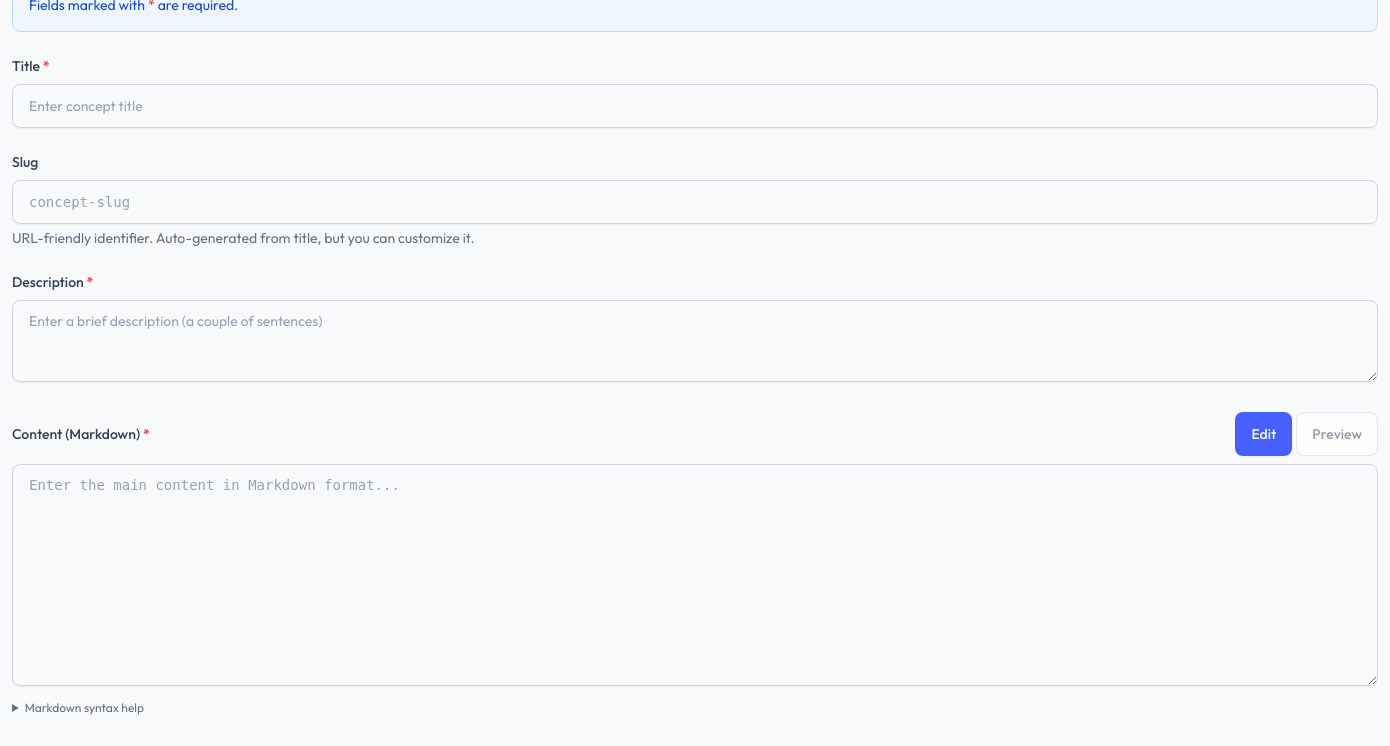
Test: ConceptForm › validates required fields
// Fill only title
Type "Test Title" into the field labelled "Title *" at (695, 106), box [12,84,1378,128]
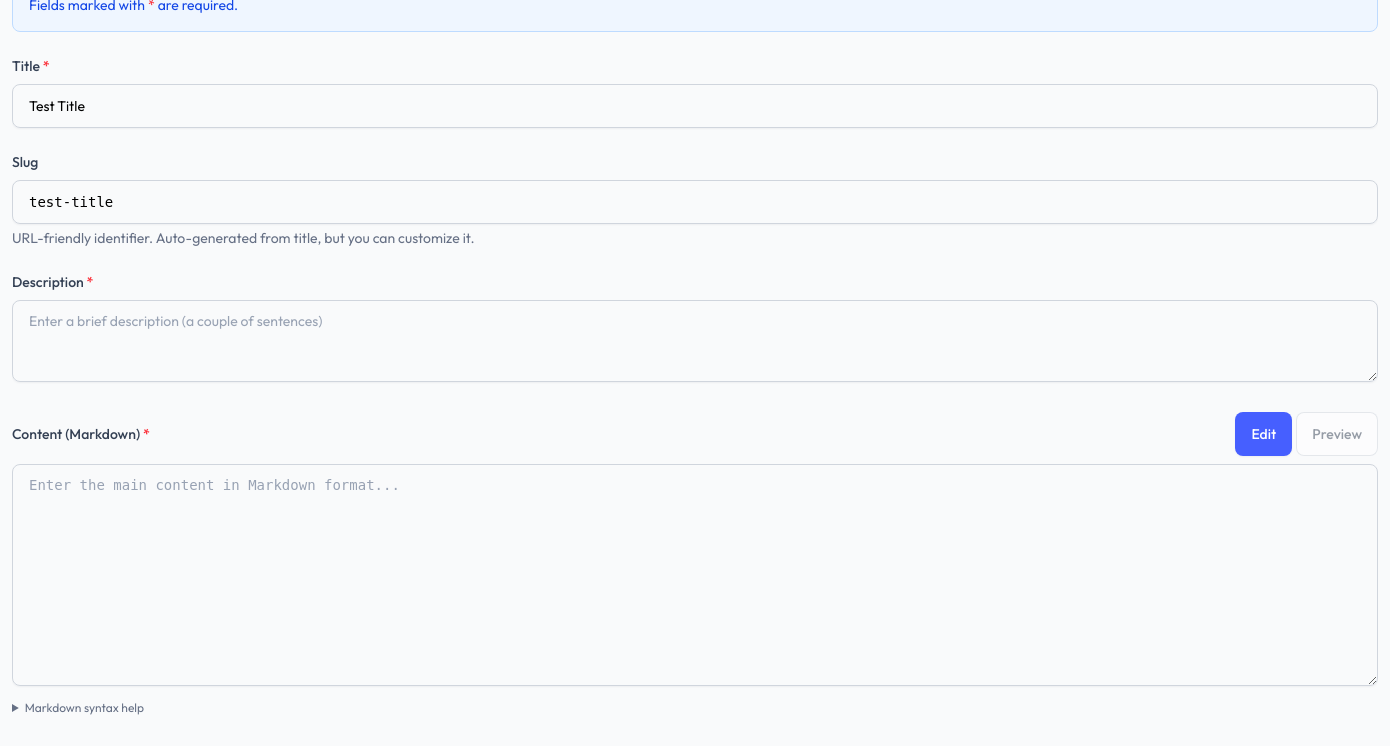
// Fill description
Type "Test description" into the text box labelled "Description *" at (695, 341), box [12,300,1378,382]
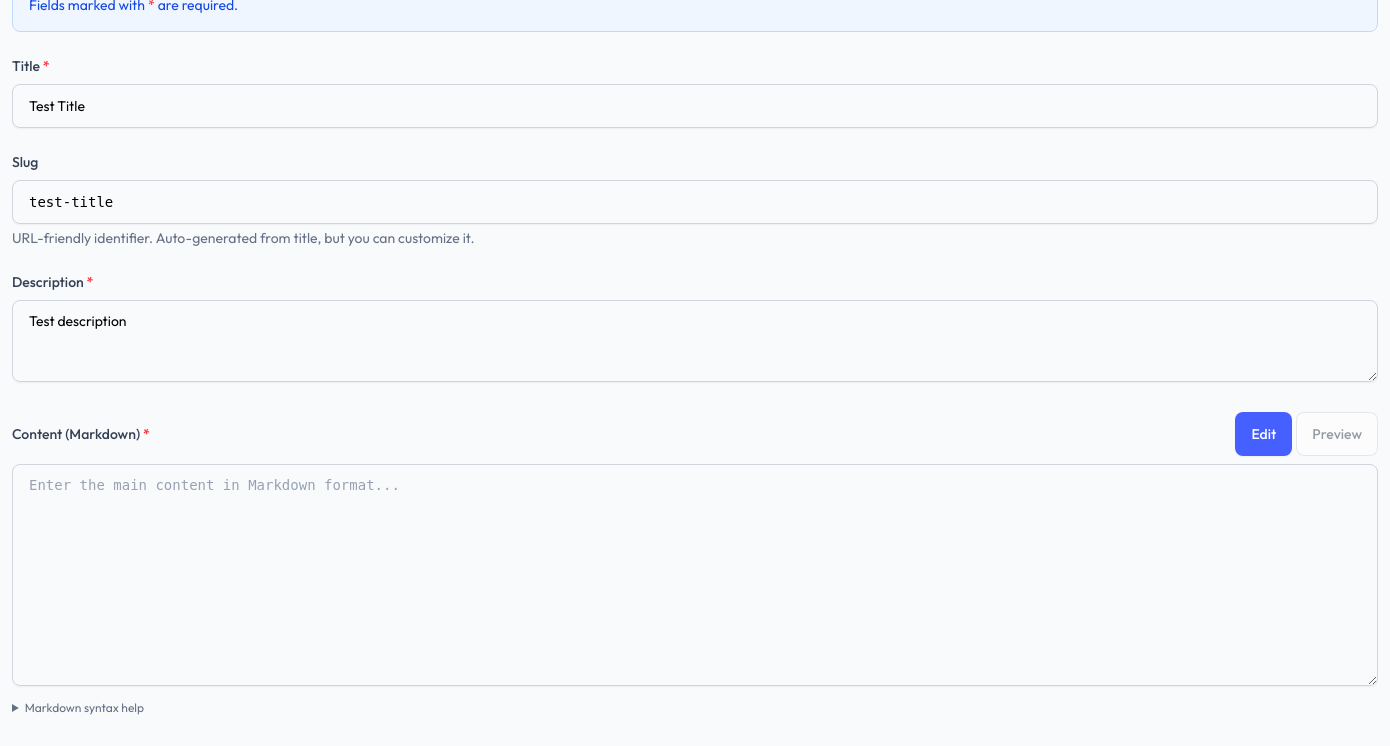
// Fill content (MarkdownEditor)
Type "Test content" into the text box labelled "Content (Markdown) *" at (695, 575), box [12,464,1378,686]
(page scrolled)
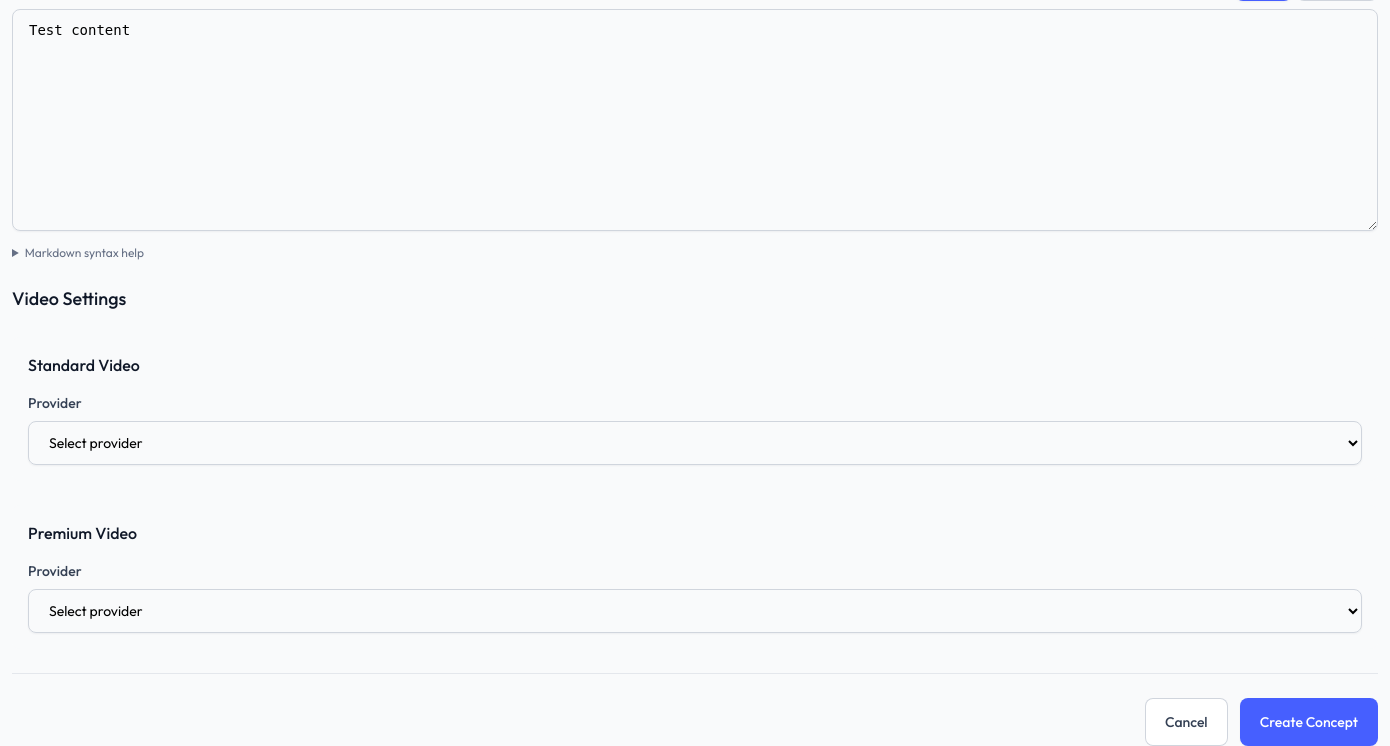
Expected: the button "Create Concept" is enabled, [1240,698,1378,745]
